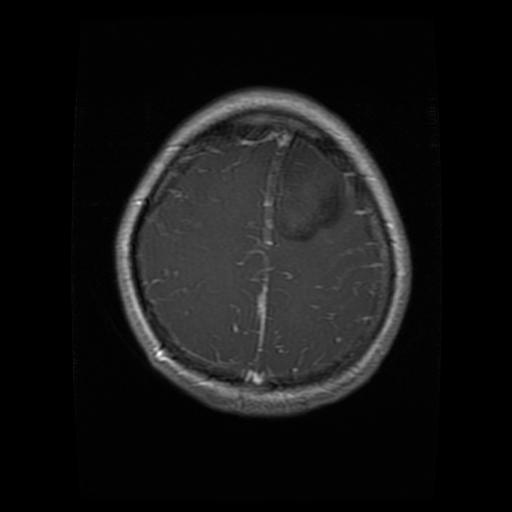Gliomia_tumour: (273, 142, 343, 239)
